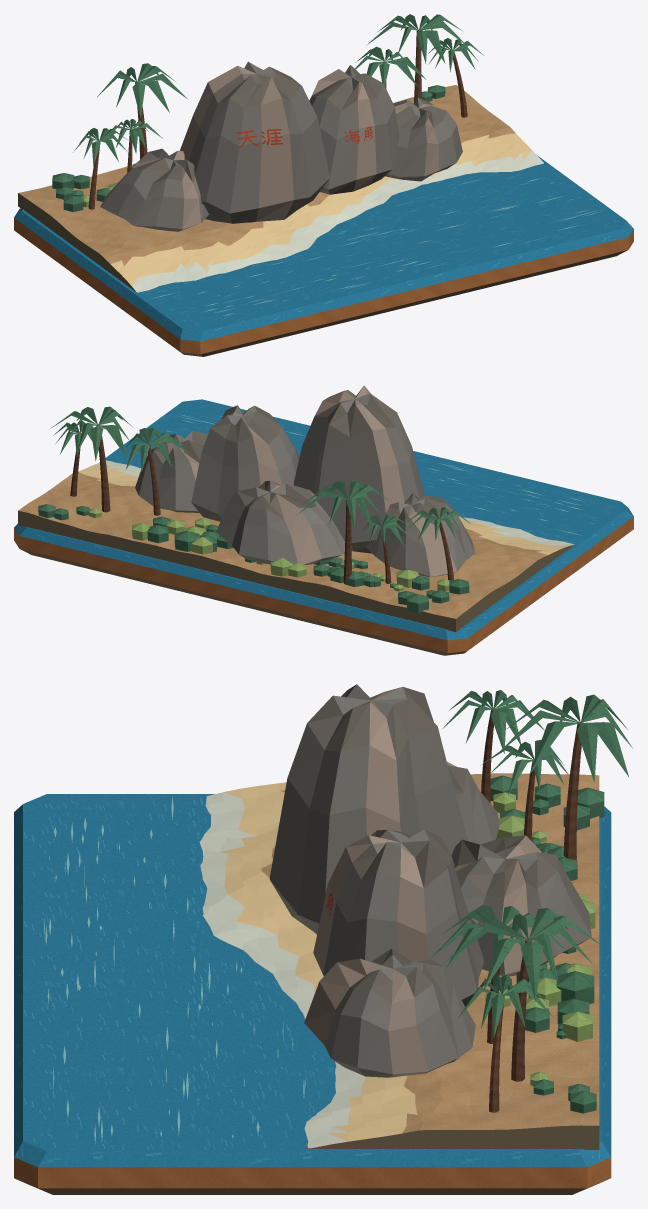
The model's file is tianyahaijiao.glb.
3 renders of one model, top to bottom at view 1: azimuth 30°, elevation 25°; view 2: azimuth 150°, elevation 25°; view 3: azimuth 270°, elevation 25°, orthographic. The views are drawn at different scales.
Visible parts, largest first — view 1: 天涯海角; view 2: 天涯海角; view 3: 天涯海角.
Part boxes in pixels (x1,y1,x2,y2): 天涯海角: [14, 14, 633, 356]; 天涯海角: [14, 385, 633, 655]; 天涯海角: [14, 684, 632, 1194].
Bounding box in the file's own units: 6.15 × 2.25 × 4.41.
Materials: 16 (8 with a texture image).
